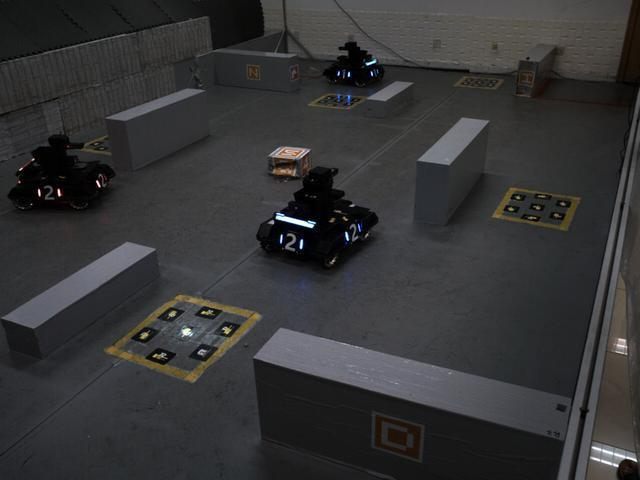armor: (274, 227, 308, 258), (337, 219, 366, 249), (32, 183, 63, 206), (91, 169, 111, 192), (332, 65, 353, 81)
